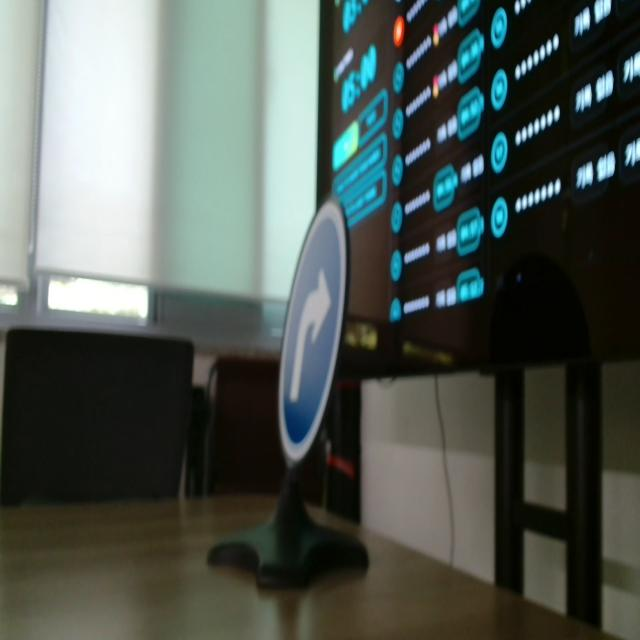right_dierection: (271, 178, 352, 465)
